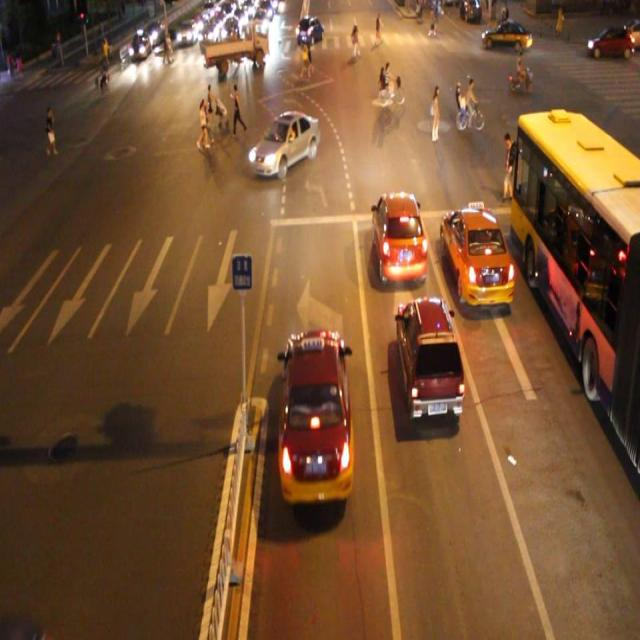bus: (206, 24, 268, 68)
car: (277, 326, 355, 501), (395, 297, 466, 422), (440, 204, 518, 308), (373, 192, 429, 288), (246, 109, 319, 177)
van: (511, 116, 640, 468)
